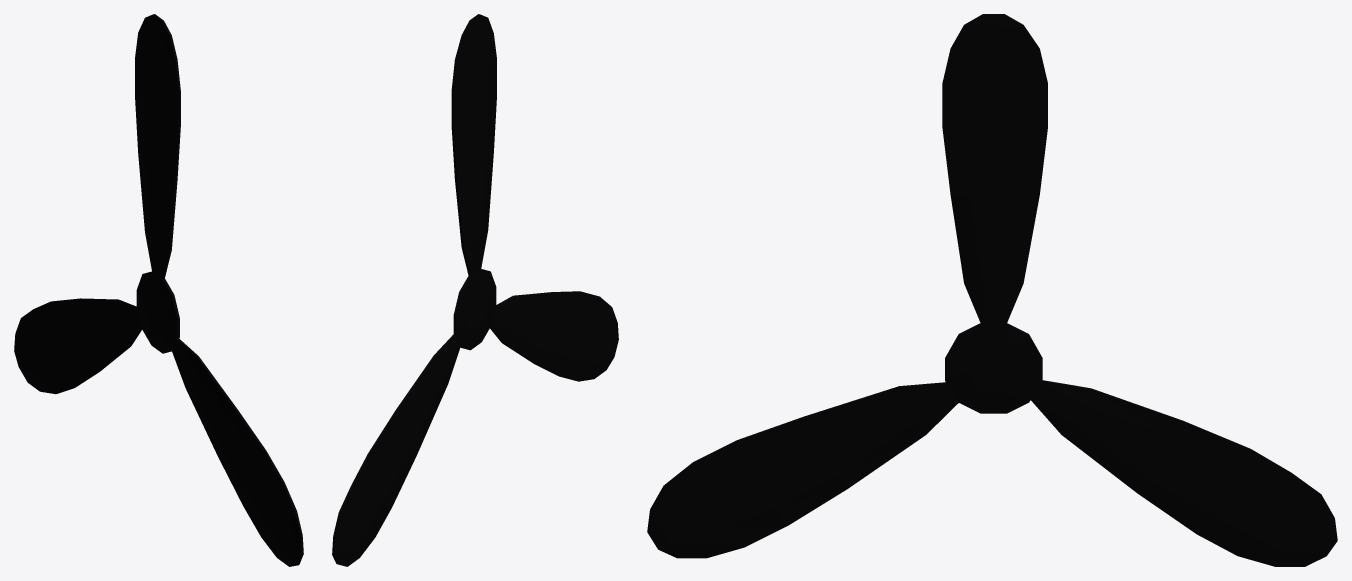
The model's file is Fan2.glb.
The picture shows the model from 3 angles, left to right: view 1: azimuth 30°, elevation 25°; view 2: azimuth 150°, elevation 25°; view 3: azimuth 270°, elevation 25°; orthographic projection. The views are drawn at different scales.
Visible parts, largest first — view 1: Fan2; view 2: Fan2; view 3: Fan2.
Boxes of the visible parts, x1=… form: Fan2: x1=14, y1=14, x2=303, y2=566; Fan2: x1=332, y1=14, x2=618, y2=566; Fan2: x1=647, y1=14, x2=1337, y2=566.
Bounding box in the file's own units: 7.55 × 623 × 707.
1 material, 1 textured.
